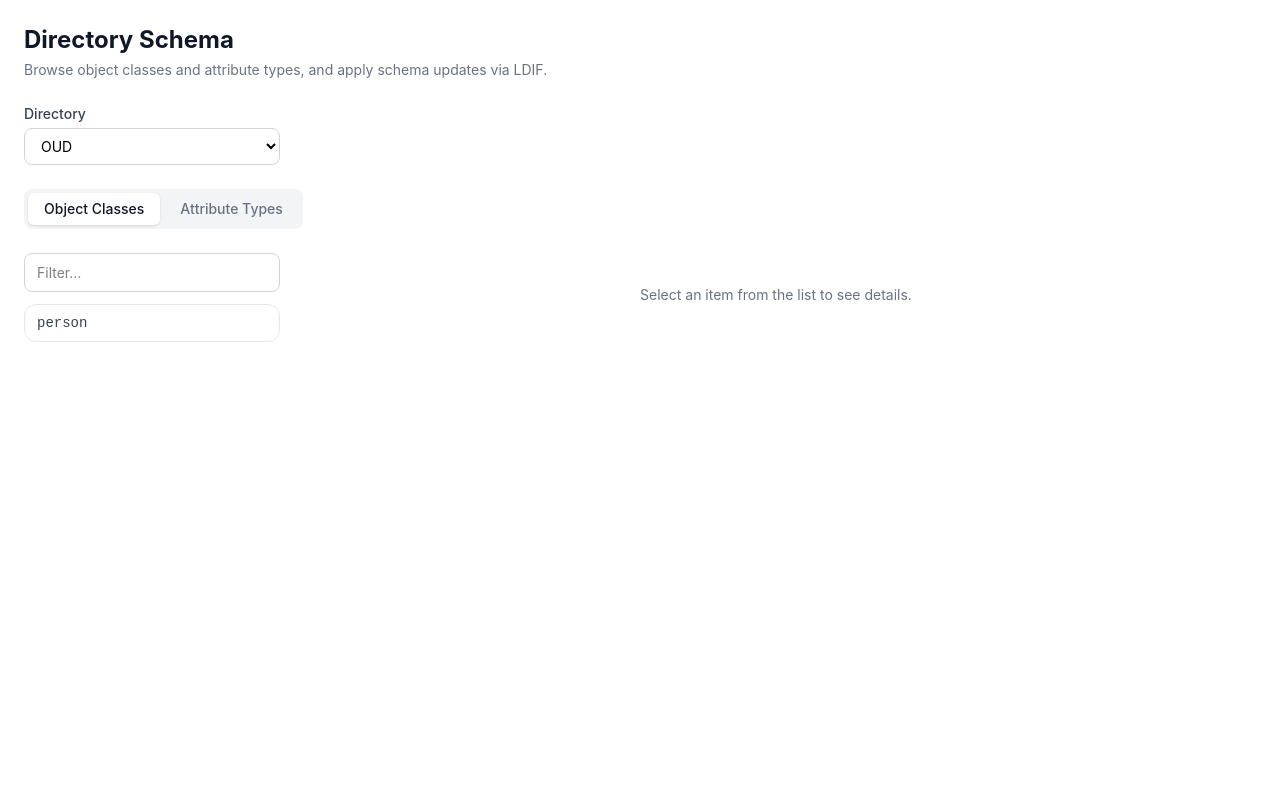
Test: SchemaBrowserView attribute detail › reveals inherited usages when the selector switches to "Incl. inherited"
Click the button "Attribute Types" at (232, 209), box x1=164 y1=193 x2=299 y2=225
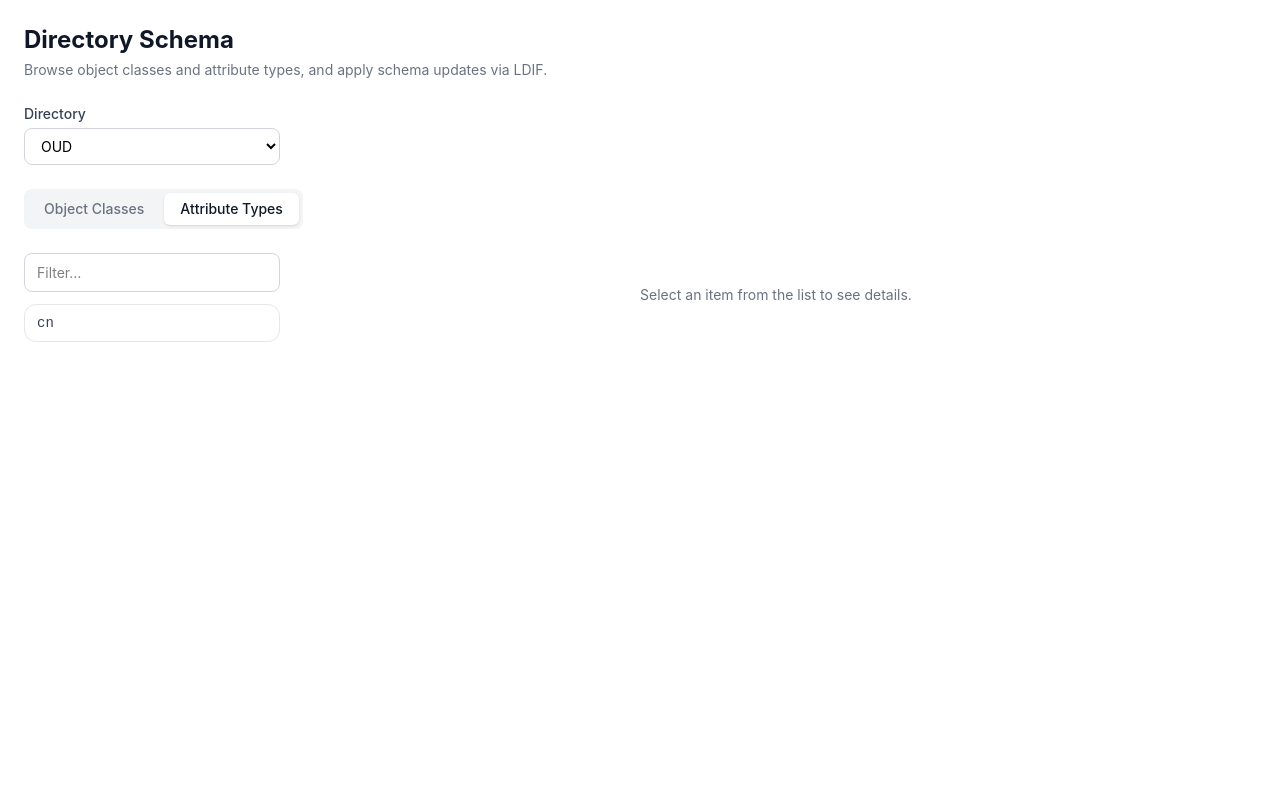
Click the button "cn" at (152, 323), box x1=25 y1=305 x2=279 y2=341
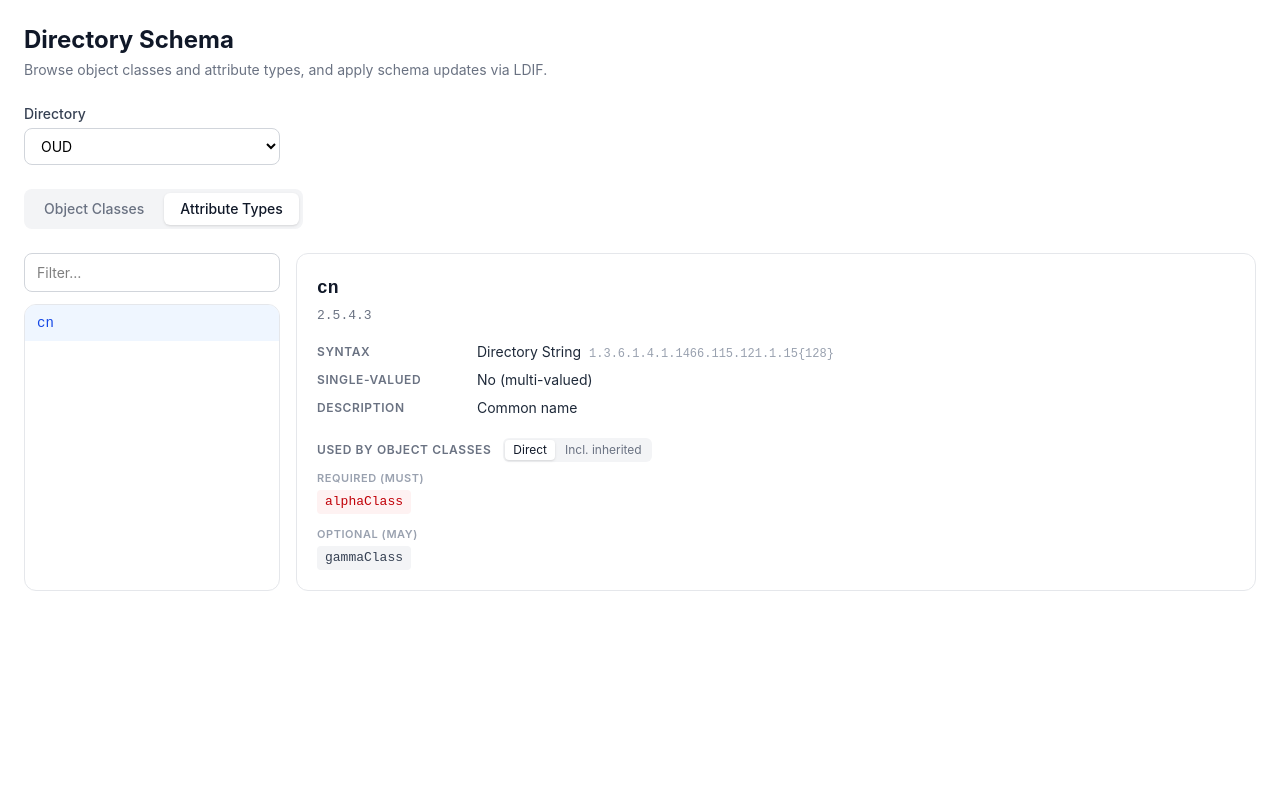
Click the button "Incl. inherited" at (603, 450), box x1=557 y1=440 x2=650 y2=460
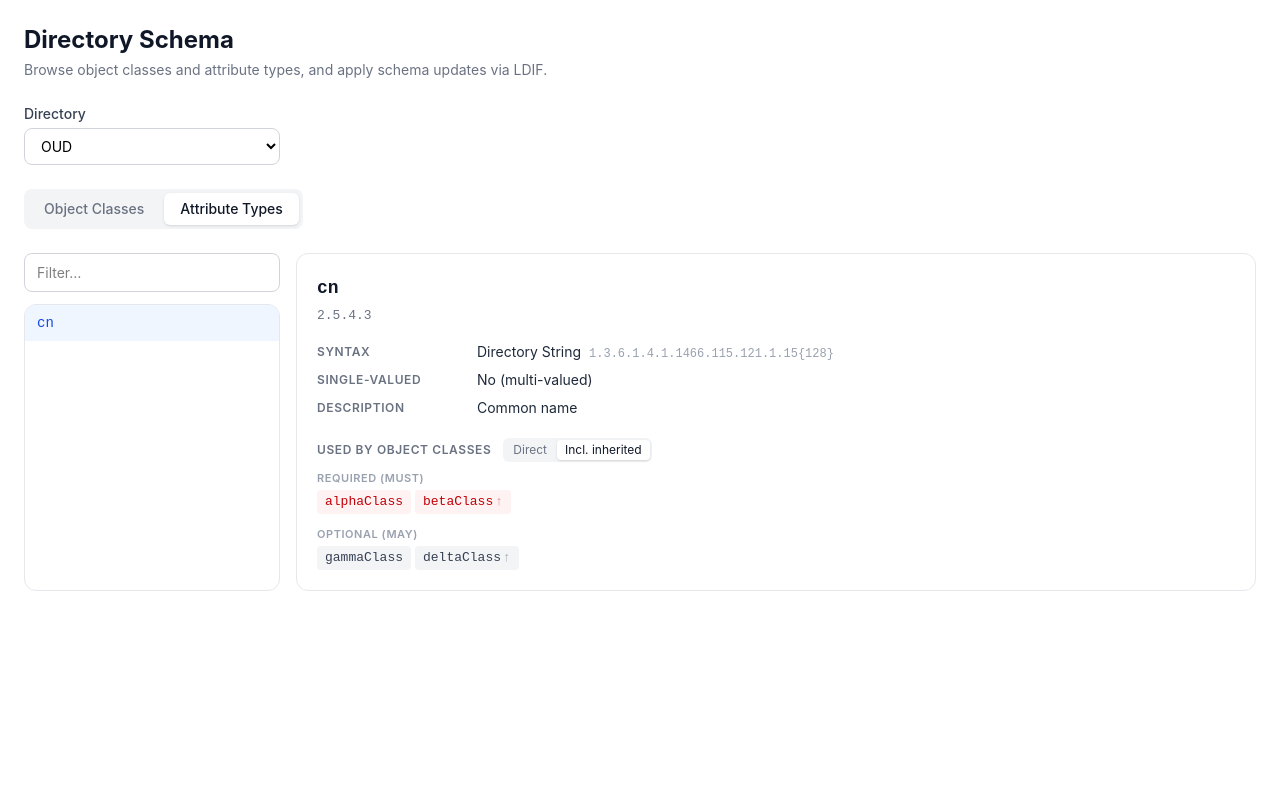
expect the text "betaClass" is shown: met, box x1=415 y1=490 x2=511 y2=514
expect the text "deltaClass" is shown: met, box x1=415 y1=546 x2=519 y2=570
